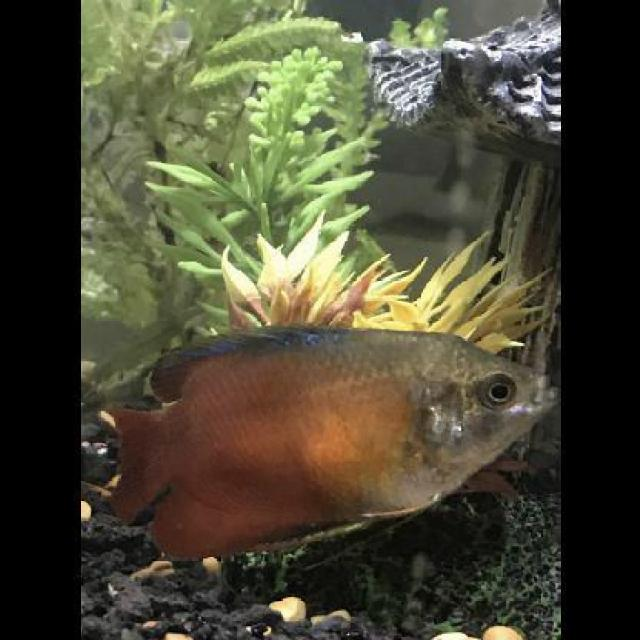Gourami: (106, 319, 560, 561)
